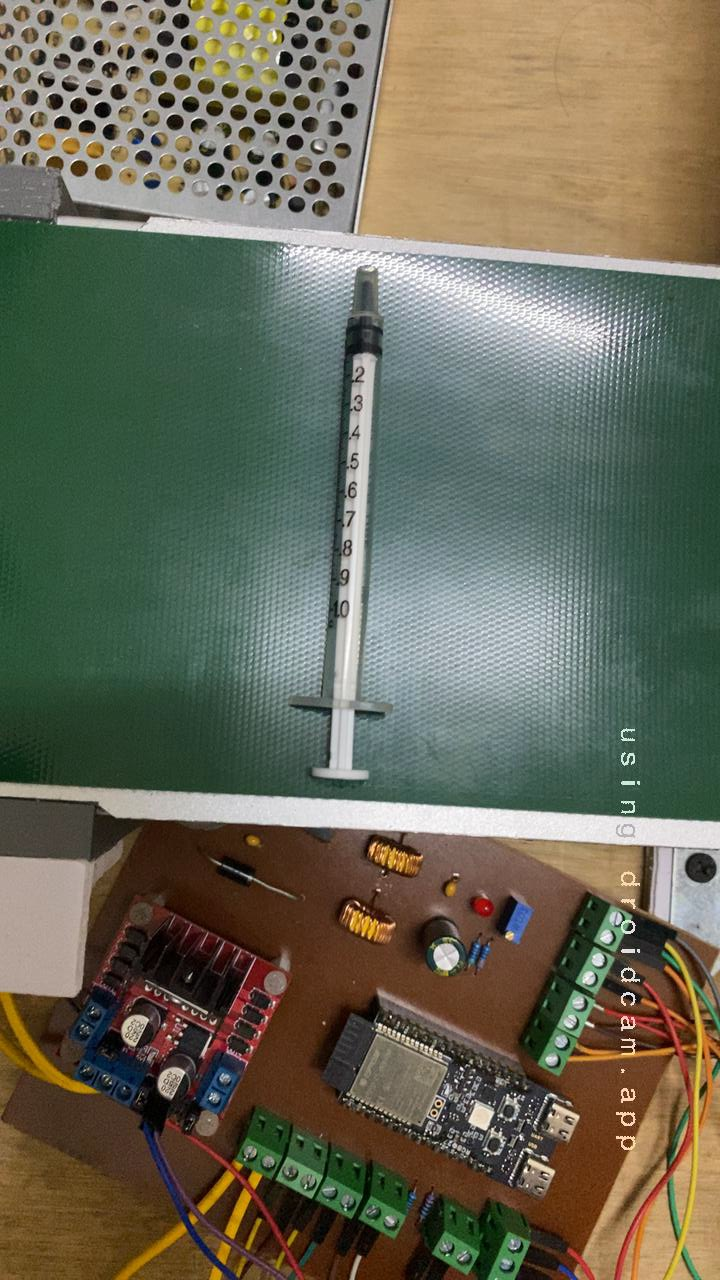syringe: (211, 261, 492, 813)
